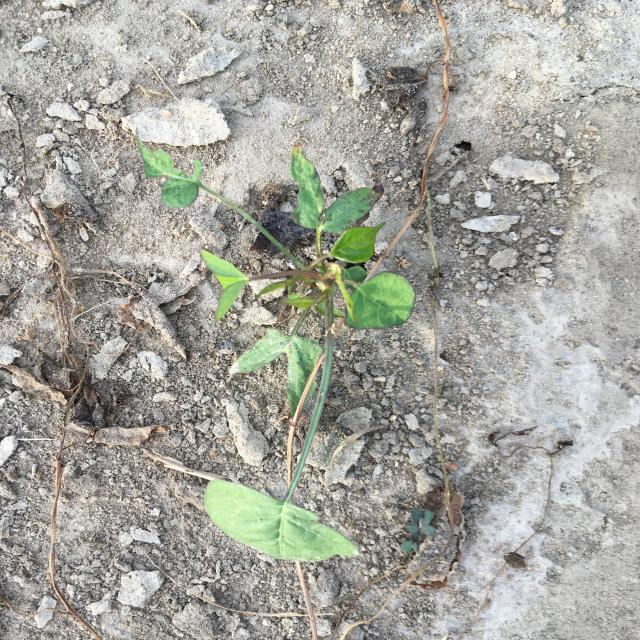MorningGlory: (134, 128, 416, 562)
